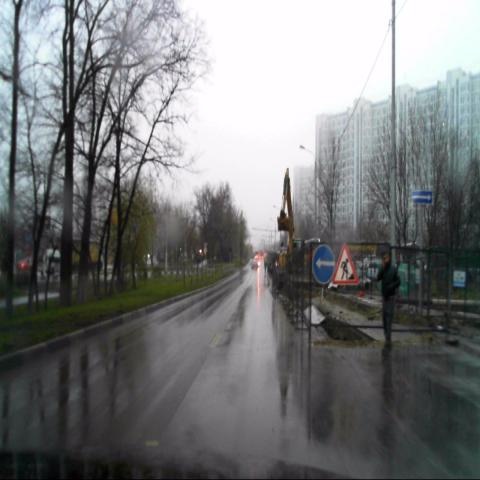4_1_2_2: (313, 244, 334, 284)
